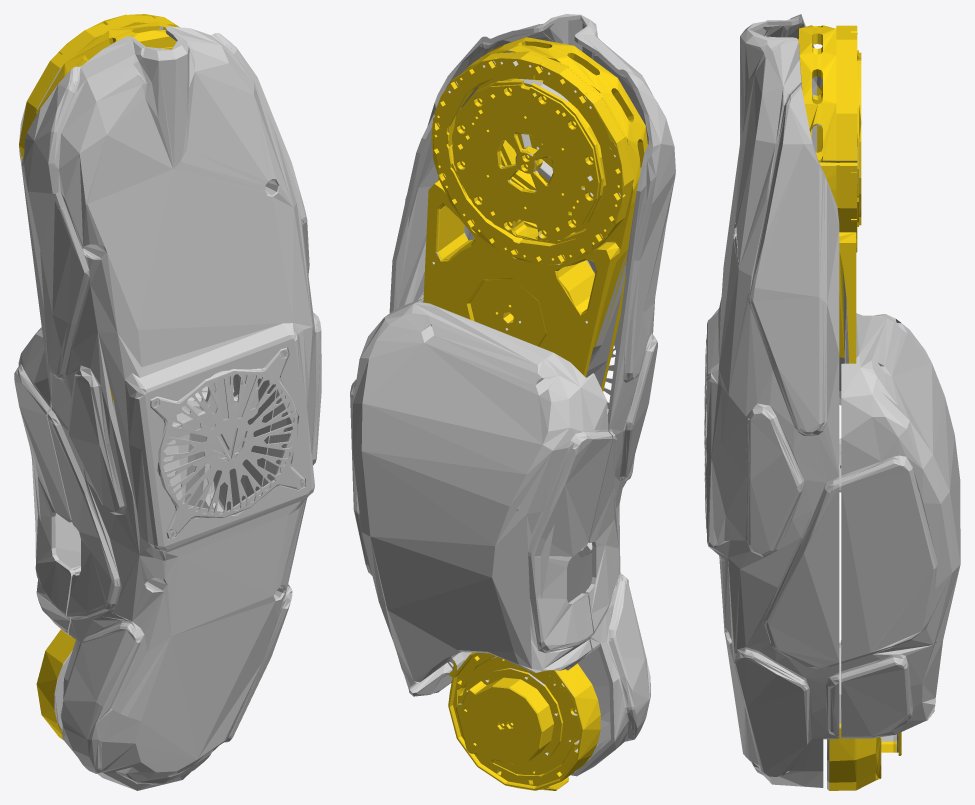
File: lj3_right.dae
3 renders of one model, left to right at view 1: azimuth 30°, elevation 25°; view 2: azimuth 150°, elevation 25°; view 3: azimuth 270°, elevation 25°, orthographic. The views are drawn at different scales.
Parts seen in each view (by area): view 1: Thigh_Right__2_; view 2: Thigh_Right__2_; view 3: Thigh_Right__2_.
Part boxes in pixels (x1,y1,x2,y2): Thigh_Right__2_: [14, 14, 321, 790]; Thigh_Right__2_: [350, 14, 675, 790]; Thigh_Right__2_: [704, 14, 960, 790].
Size of the model in its own units: 0.2184 by 0.1783 by 0.5787.
